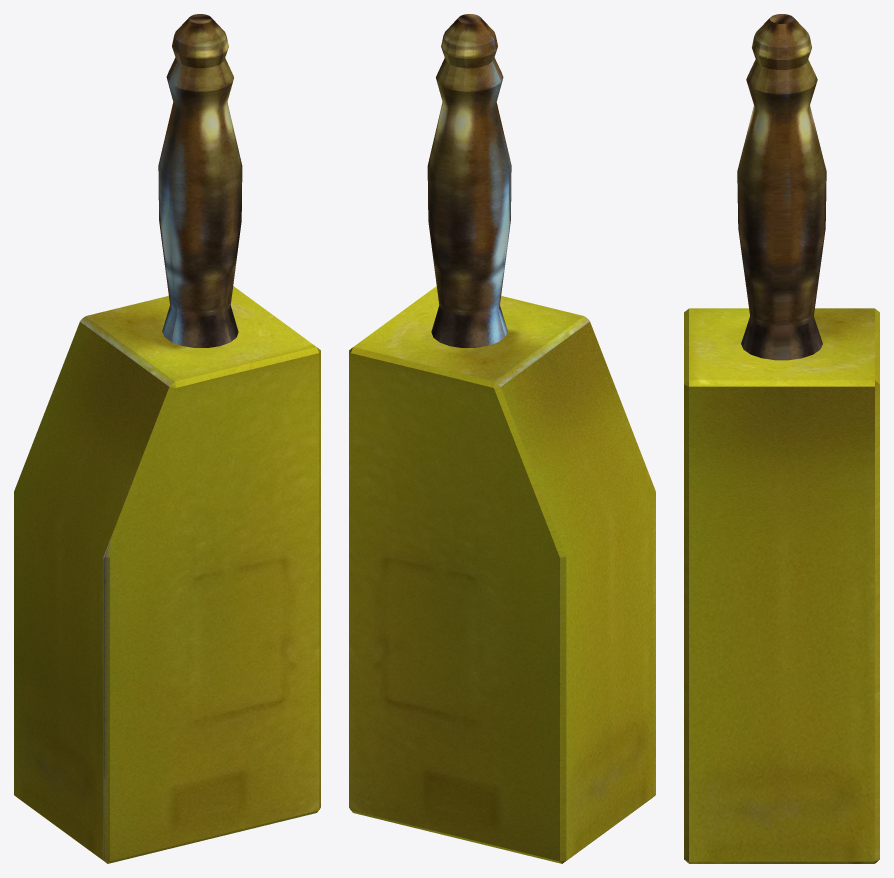
Rendered from small_plug.fbx.
3 renders of one model, left to right at view 1: azimuth 30°, elevation 25°; view 2: azimuth 150°, elevation 25°; view 3: azimuth 270°, elevation 25°, orthographic. The views are drawn at different scales.
Visible parts, largest first — view 1: small_plug; view 2: small_plug; view 3: small_plug.
Boxes of the visible parts, x1=… form: small_plug: x1=14, y1=14, x2=320, y2=863; small_plug: x1=349, y1=14, x2=655, y2=863; small_plug: x1=684, y1=14, x2=879, y2=863.
Size of the model in its own units: 13.94 by 47.74 by 10.47.
Materials: 1 (1 with a texture image).
